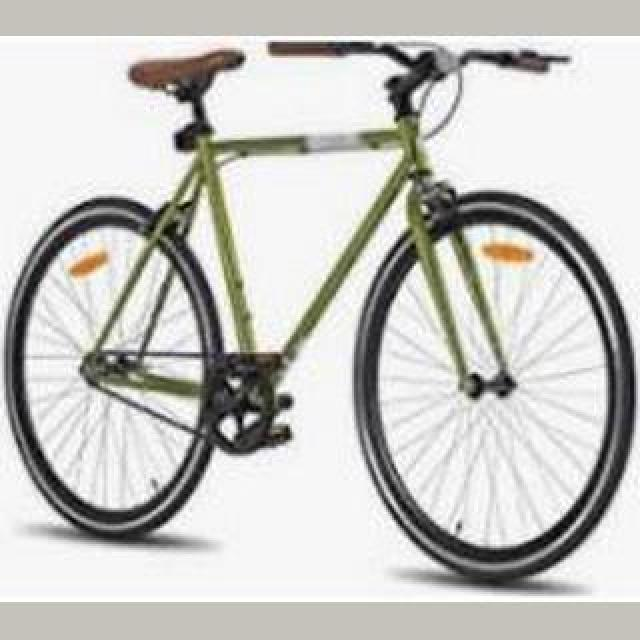Person: (5, 36, 635, 584)
